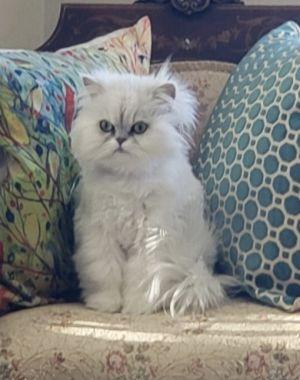persian: (66, 66, 189, 187)
